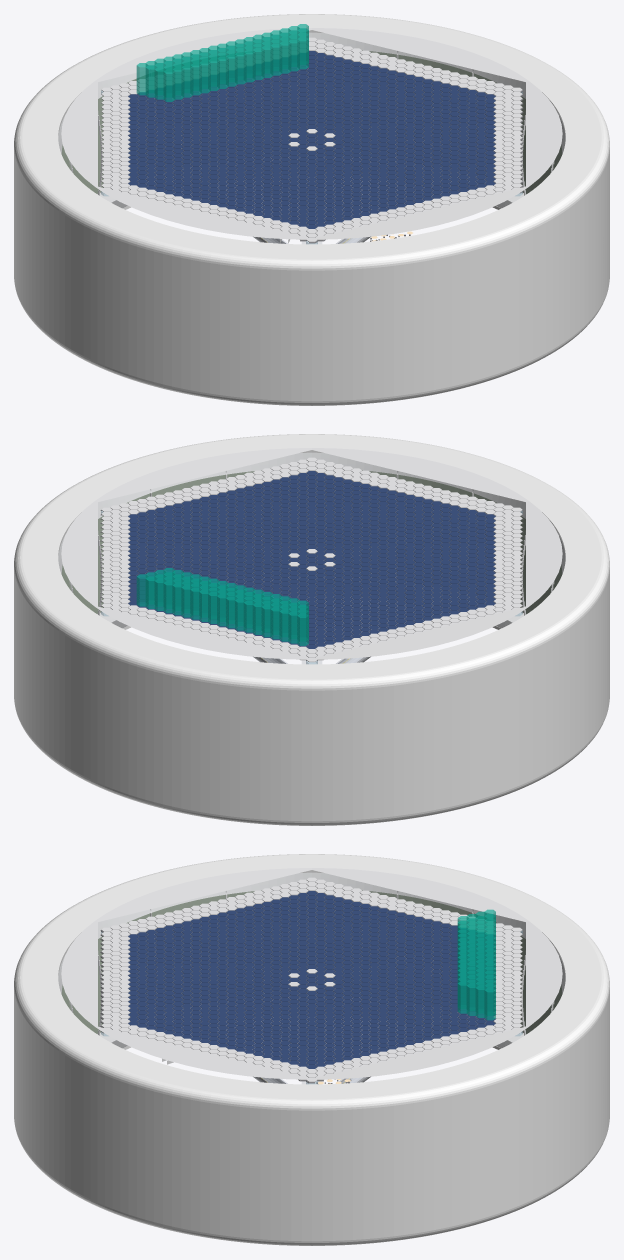
File: station_structure.glb
3 views of the same model, one above another, from view 1: azimuth 30°, elevation 25°; view 2: azimuth 150°, elevation 25°; view 3: azimuth 270°, elevation 25° (orthographic).
Parts seen in each view (by area): view 1: Ring, Kollektor, Spiegel, Hangar am Rand, Wabenrahmen, Ringdach Rand, Ringboden; view 2: Ring, Kollektor, Spiegel, Hangar am Rand, Ringdach Rand, Wabenrahmen, Ringboden; view 3: Ring, Kollektor, Spiegel, Hangar am Rand, Wabenrahmen, Ringdach Rand, Ringboden.
Boxes of the visible parts, x1,y1,x2,y2 form: Ring: (14,14,609,405); Kollektor: (128,51,495,228); Spiegel: (61,28,562,242); Hangar am Rand: (136,24,308,101); Wabenrahmen: (128,51,523,243); Ringdach Rand: (58,32,565,208); Ringboden: (61,50,562,193); Ring: (14,434,609,825); Kollektor: (128,471,495,648); Spiegel: (61,448,562,662); Hangar am Rand: (136,568,308,645); Ringdach Rand: (58,452,565,628); Wabenrahmen: (100,471,523,660); Ringboden: (61,470,562,613); Ring: (14,854,609,1245); Kollektor: (128,891,495,1068); Spiegel: (61,868,562,1082); Hangar am Rand: (457,909,495,1020); Wabenrahmen: (100,891,495,1083); Ringdach Rand: (58,872,565,1048); Ringboden: (61,890,562,1033).
Size of the model in its own units: 579 by 235 by 579.
